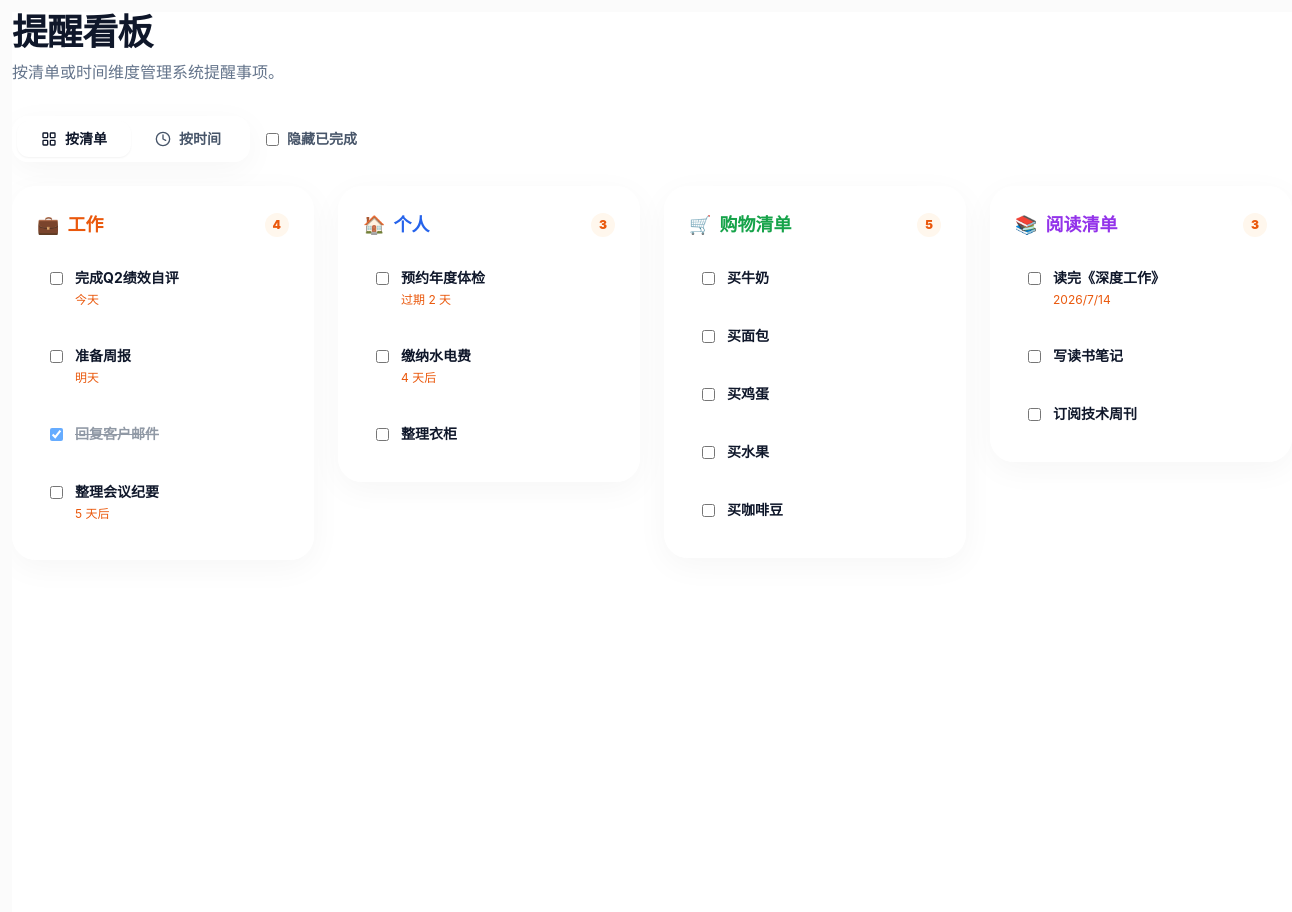
Test case: RemindersView › By Time View › should switch to time view when "按时间" tab is clicked
The width and height of the screenshot is (1292, 912).
// 点击"按时间"Tab
What coordinates should you click on to do the following:
click the button "按时间"
I would click on:
 (188, 139)
Its box is [131,121,245,157].
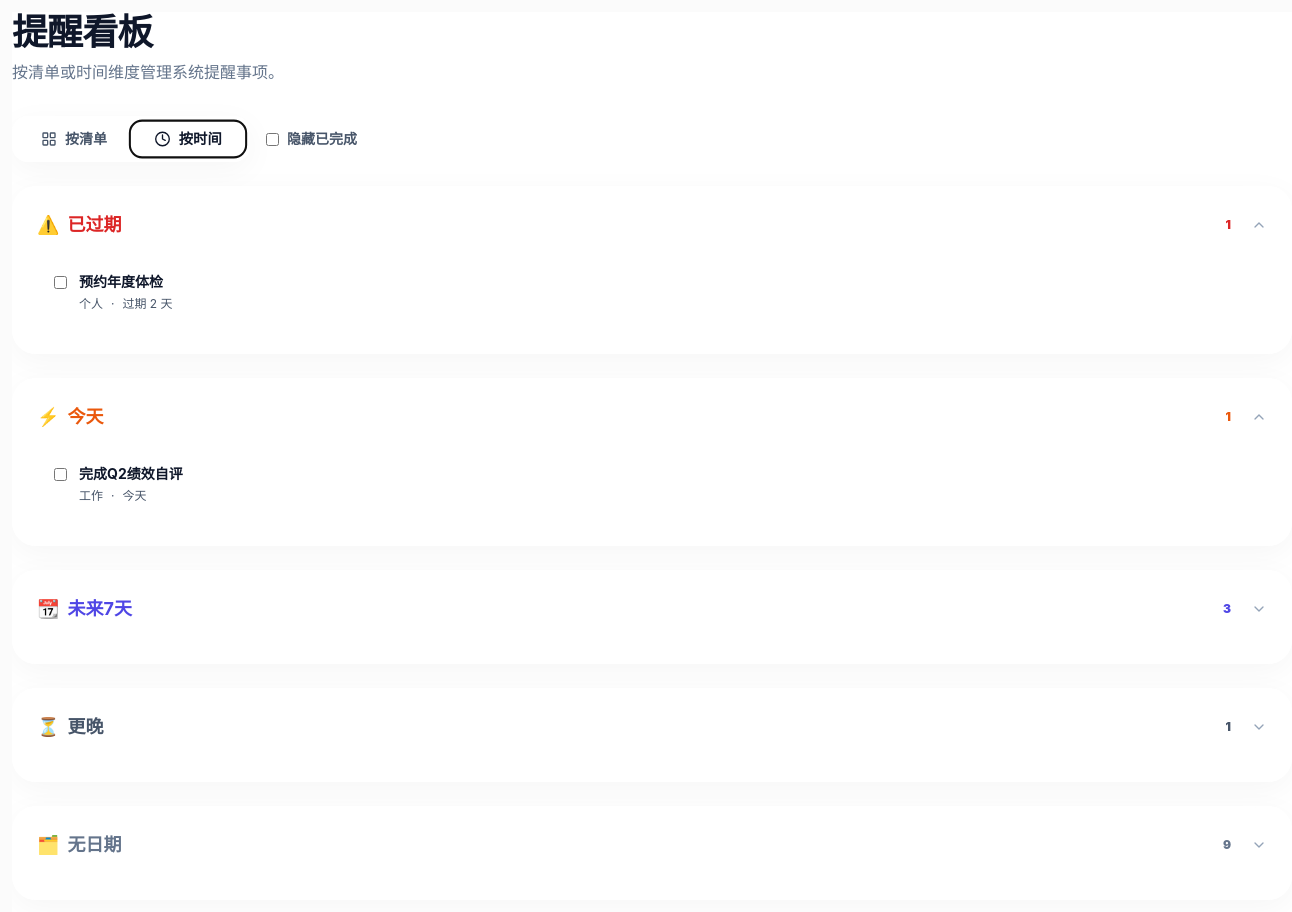
expect the heading "⚠️ 已过期" is shown: met, box [37,211,122,239]
expect the heading "📆 未来7天" is shown: met, box [37,595,132,623]
expect the heading "⏳ 更晚" is shown: met, box [37,713,104,741]
